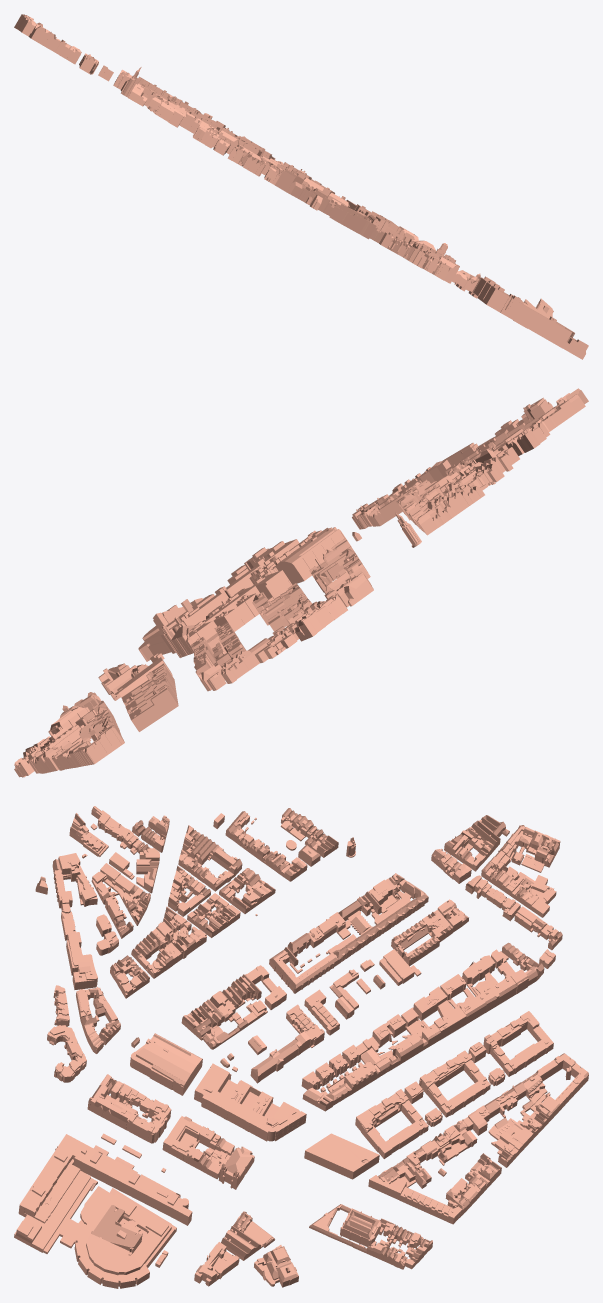
3 views of the same model, one above another, from view 1: azimuth 30°, elevation 25°; view 2: azimuth 150°, elevation 25°; view 3: azimuth 270°, elevation 25° (orthographic). The views are drawn at different scales.
Size of the model in its own units: 1.71e+07 by 1.31e+07 by 2.21e+07.
